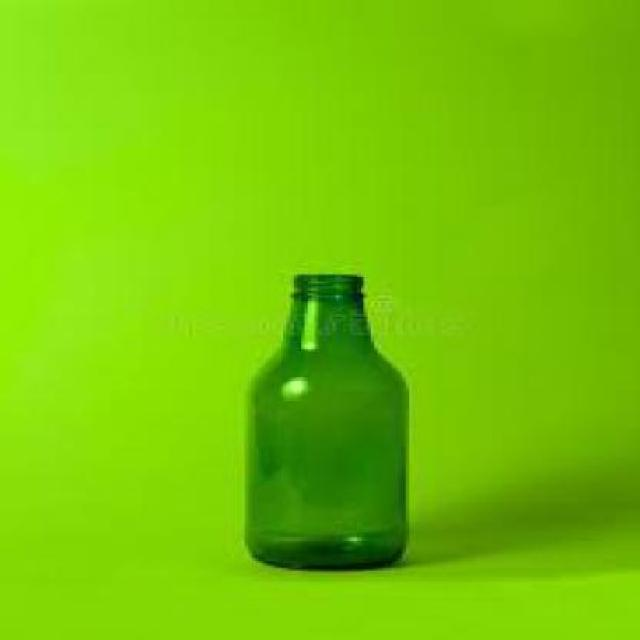kaca: (242, 272, 406, 571)
